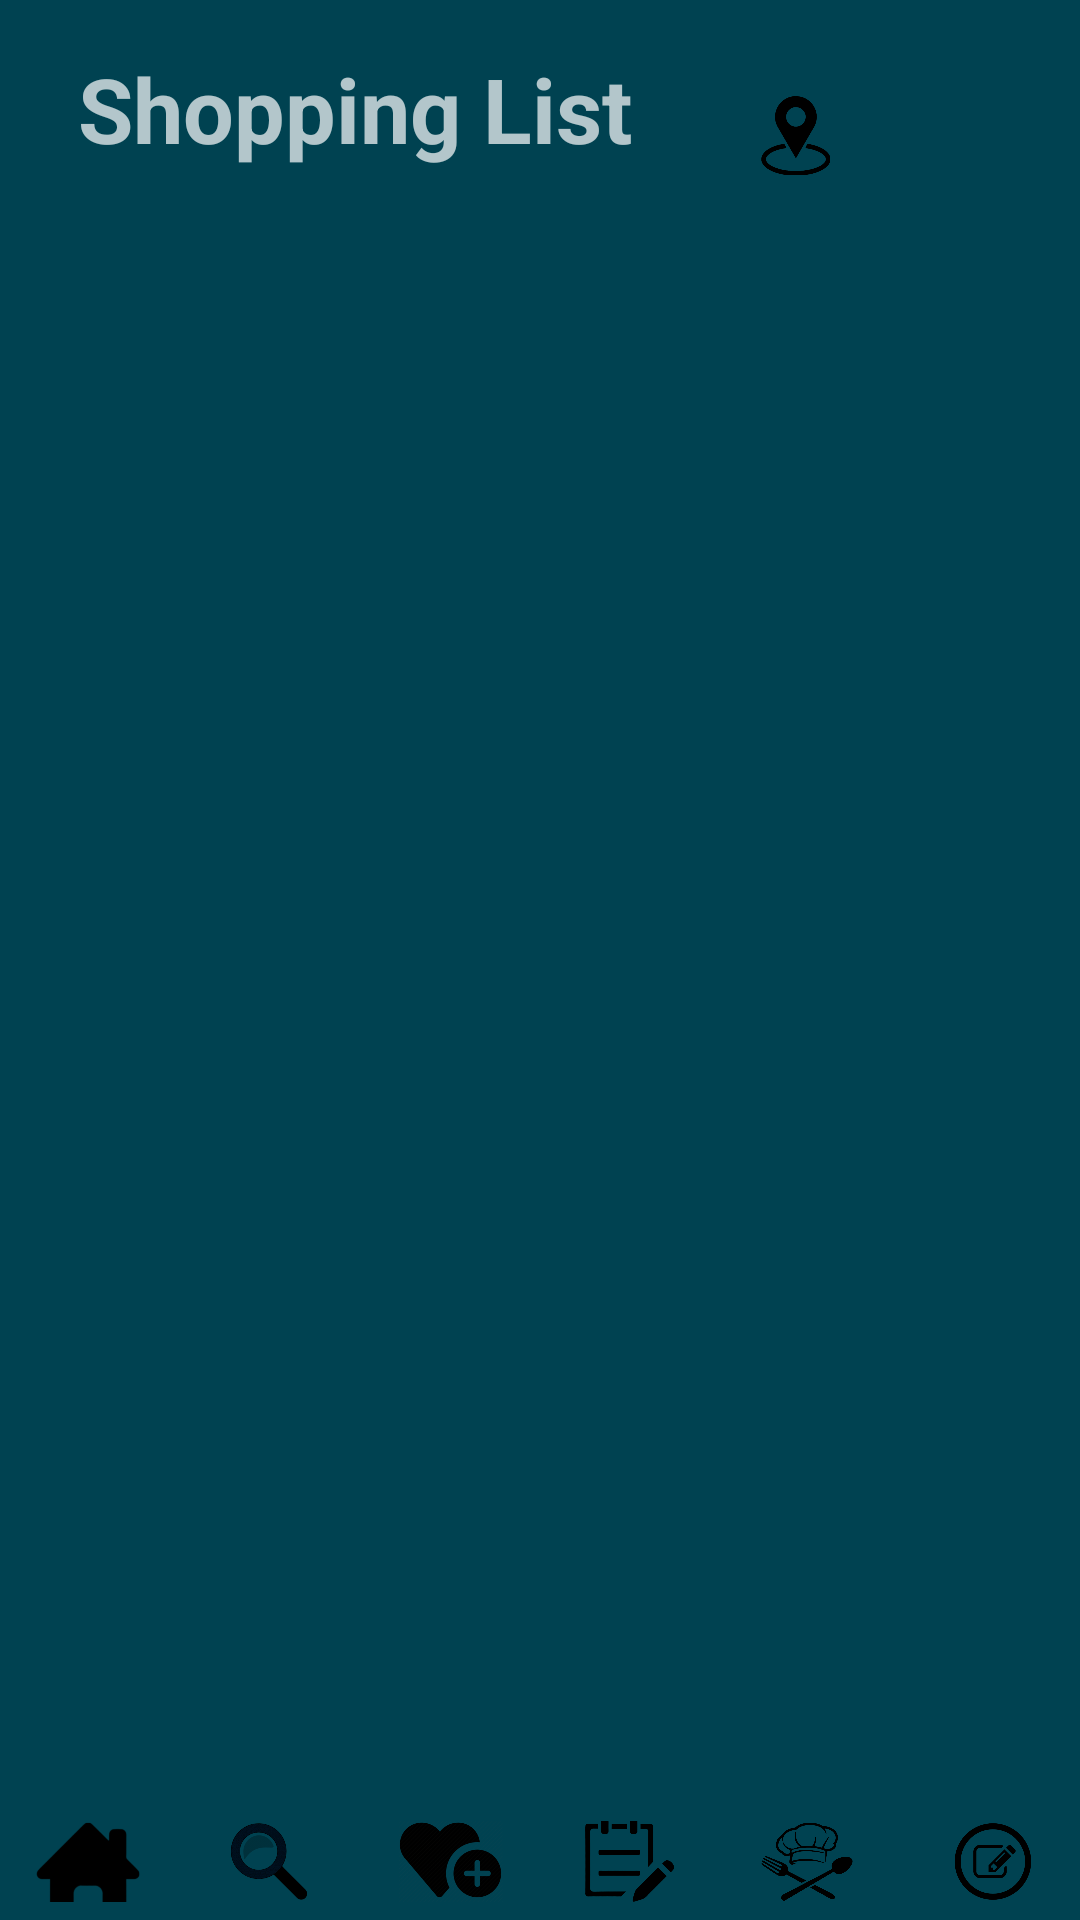

Where icons sit on this 1080px×1920px app screen, as (x1, y1, x2, y2):
chef: (762, 1823, 853, 1901)
home: (37, 1823, 139, 1902)
location: (761, 96, 830, 175)
reviews: (955, 1823, 1031, 1900)
saved: (400, 1823, 501, 1897)
shopping: (585, 1821, 674, 1902)
